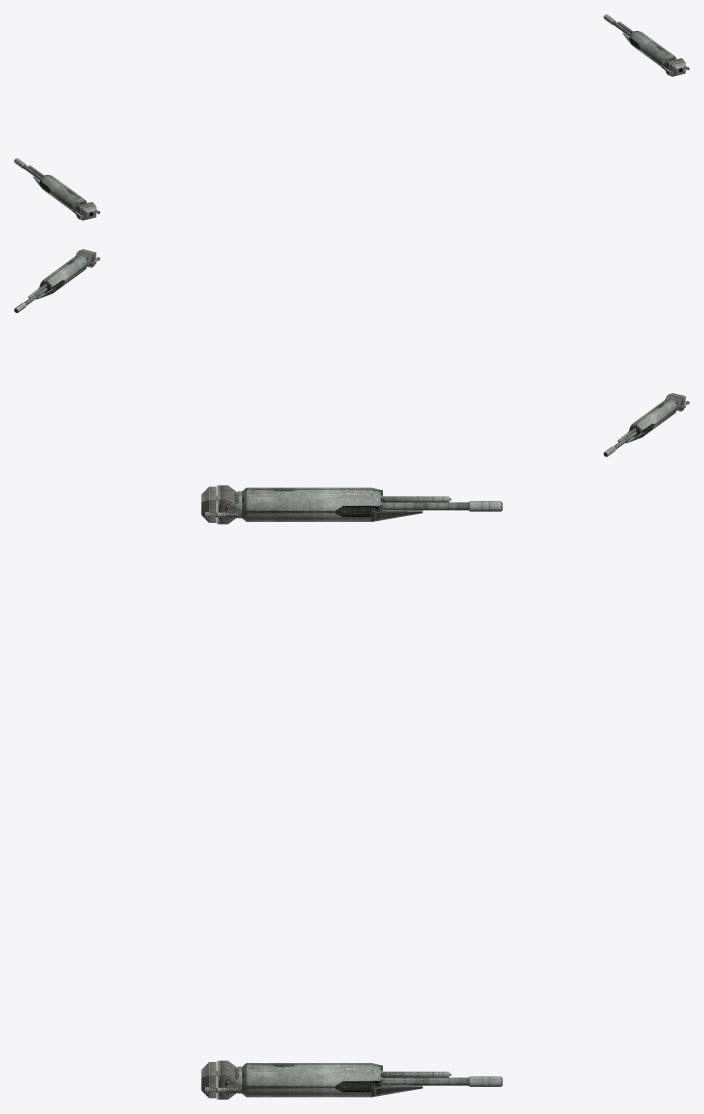
File: hutt_fighter_heavy_weapon2_s03_l0.fbx
The picture shows the model from 3 angles, top to bottom: view 1: azimuth 30°, elevation 25°; view 2: azimuth 150°, elevation 25°; view 3: azimuth 270°, elevation 25°; orthographic projection. The views are drawn at different scales.
Visible parts, largest first — view 1: mesh_node; view 2: mesh_node; view 3: mesh_node.
Boxes of the visible parts, box(x1,y1,x2,y2) form: mesh_node: box(14, 14, 689, 220); mesh_node: box(14, 249, 689, 456); mesh_node: box(201, 485, 502, 1099).
Size of the model in its own units: 26.81 by 0.6605 by 5.74.
Materials: 1 (1 with a texture image).
